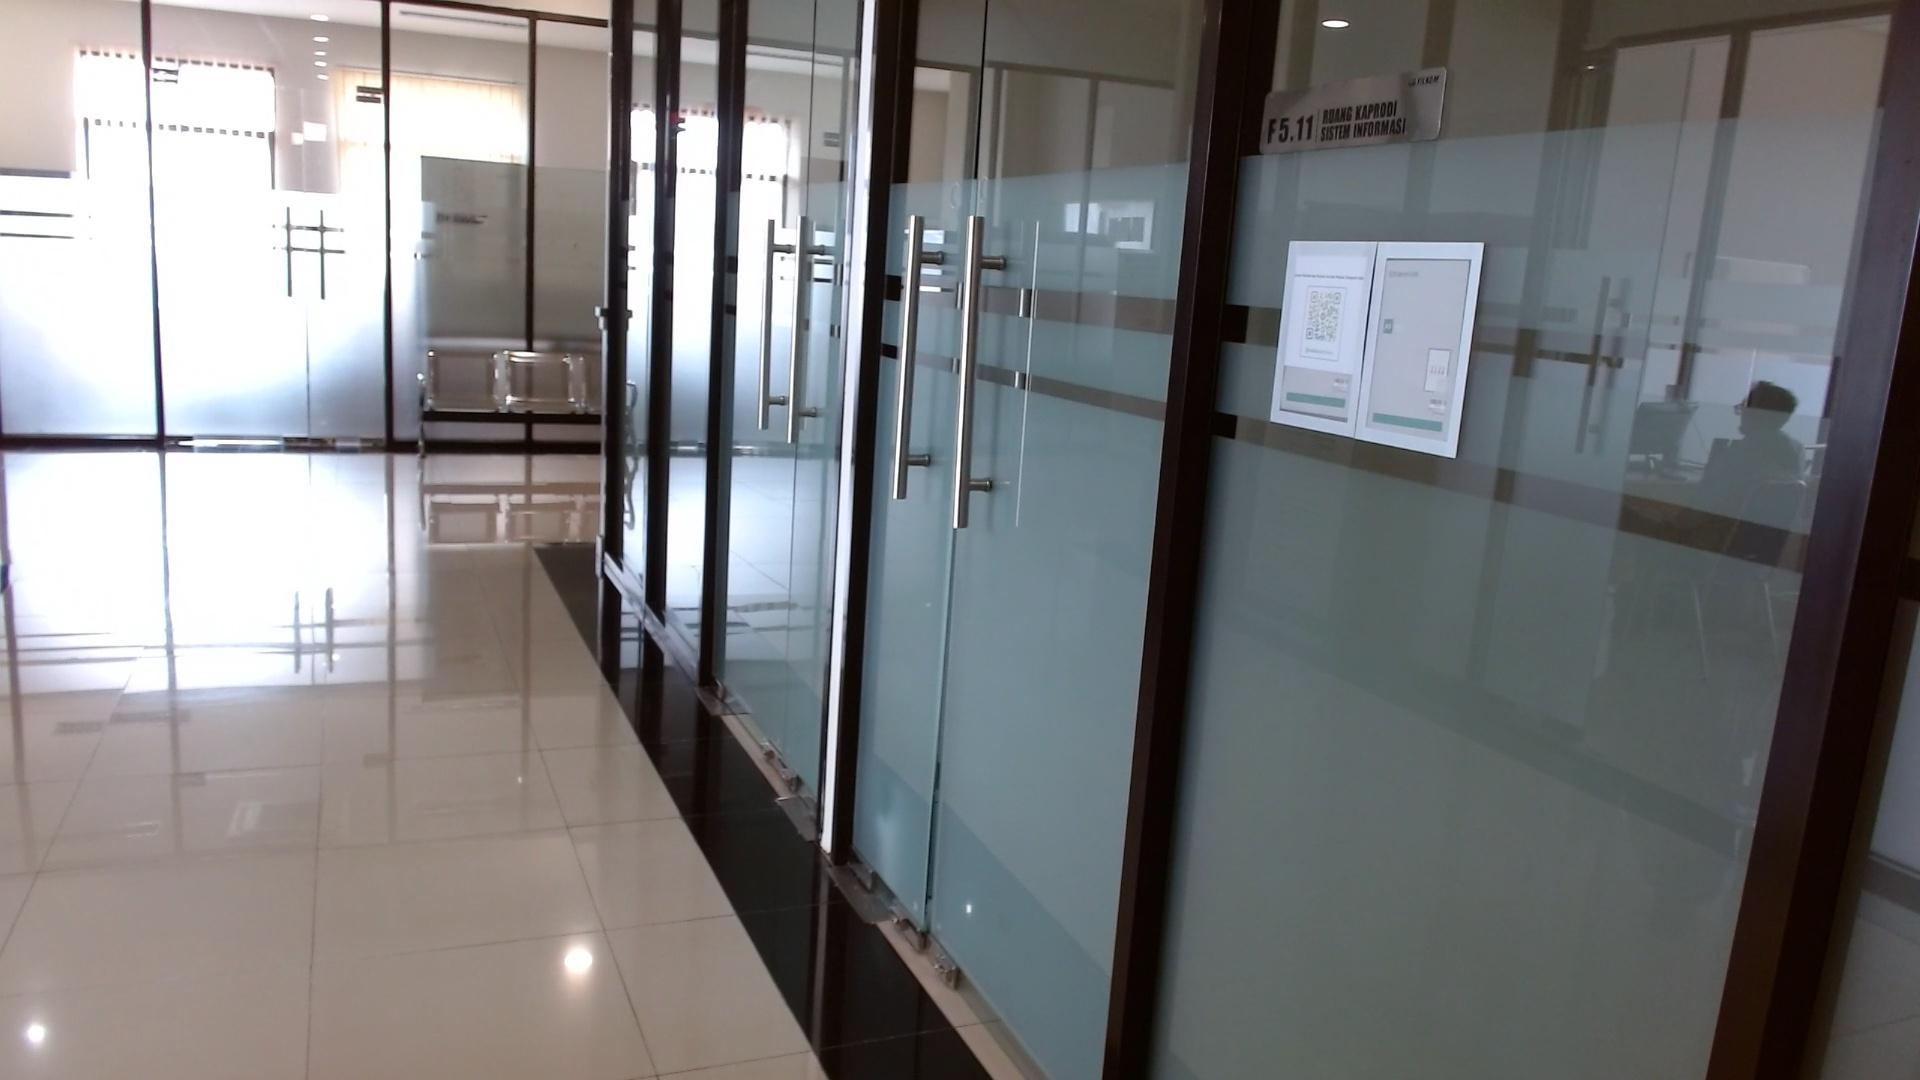plate: (1259, 66, 1448, 154)
